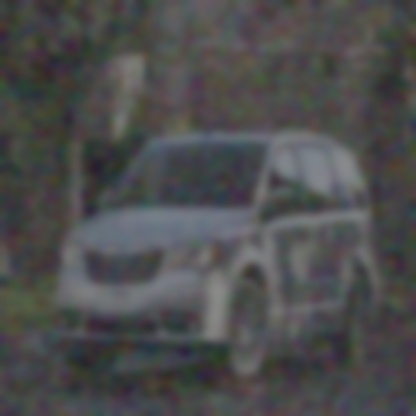Vehicle: (55, 129, 379, 383)
